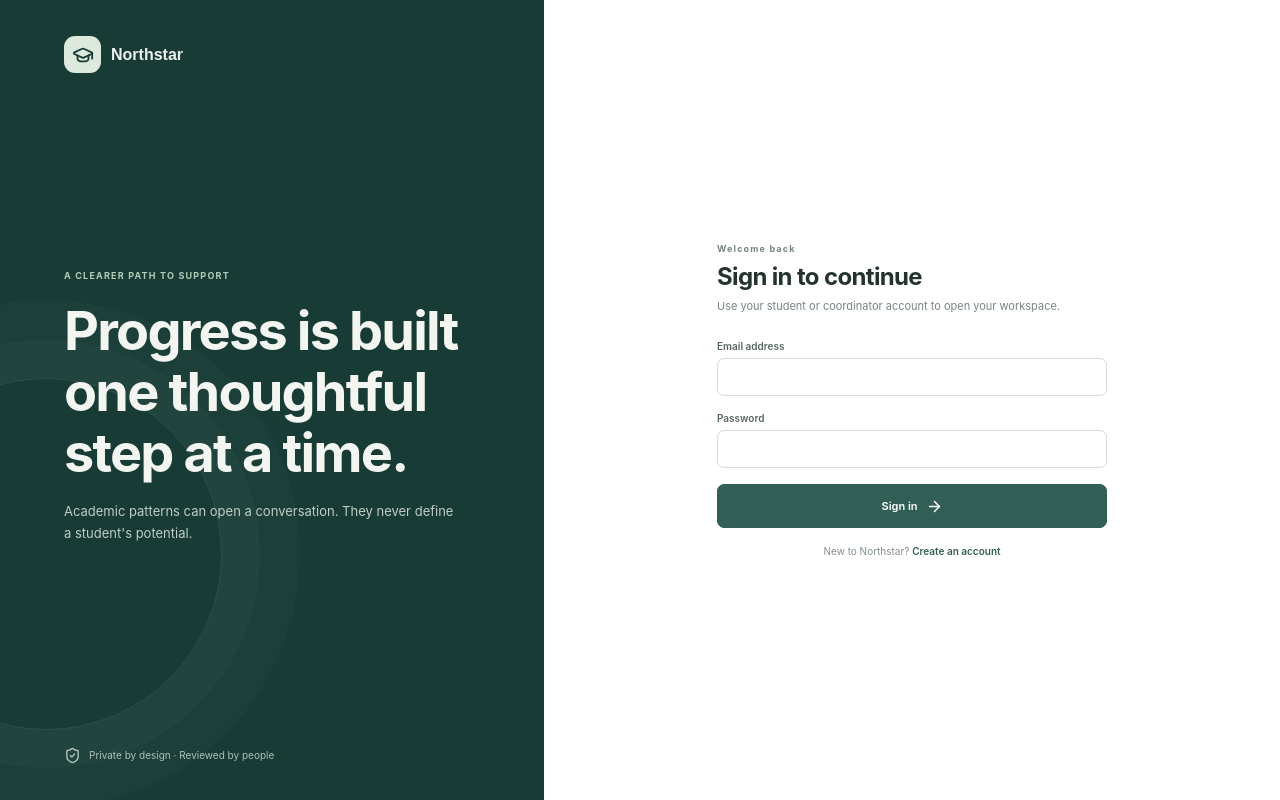
student and coordinator frontend flows › shows invalid login credentials instead of a session-expired message
Type "coordinator@example.edu" into the field labelled "Email address" at coordinates (912, 377), box [717, 358, 1107, 396]
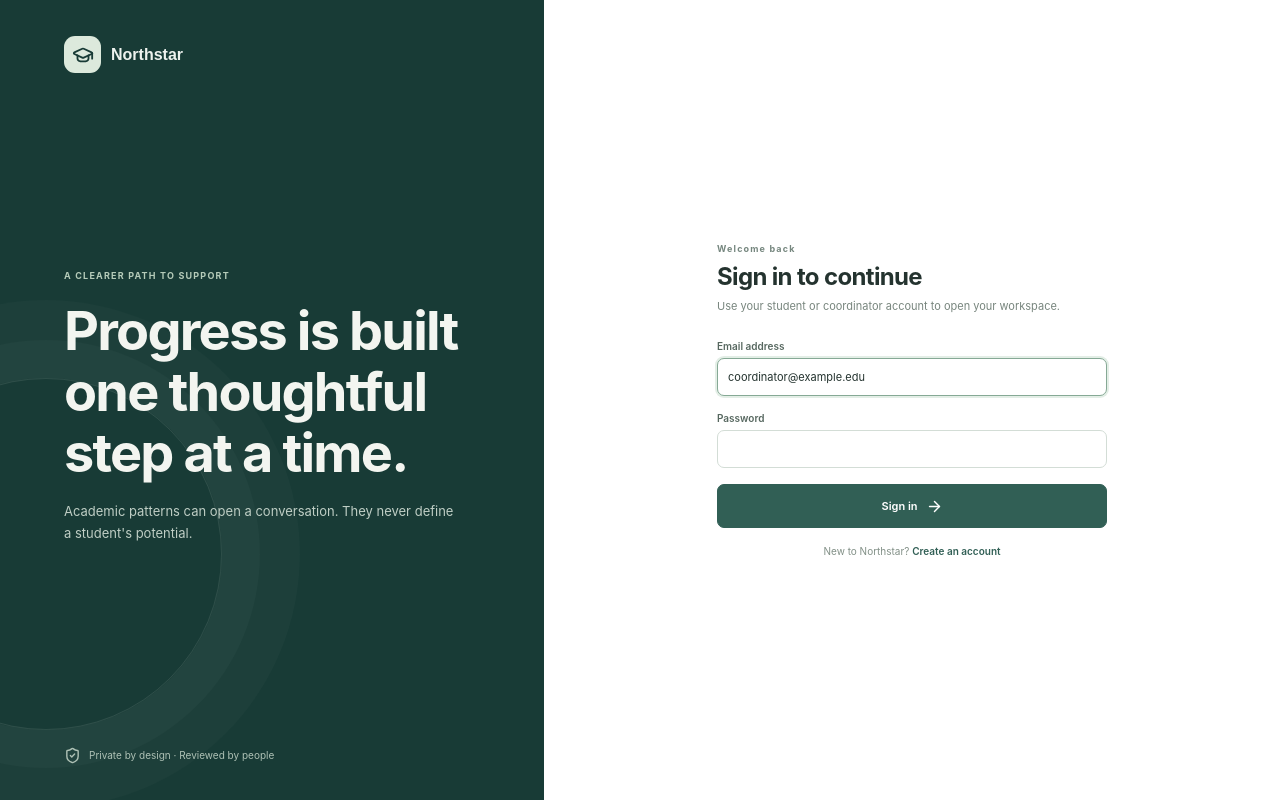
Type "wrong-password" into the password field labelled "Password" at coordinates (912, 449), box [717, 430, 1107, 468]
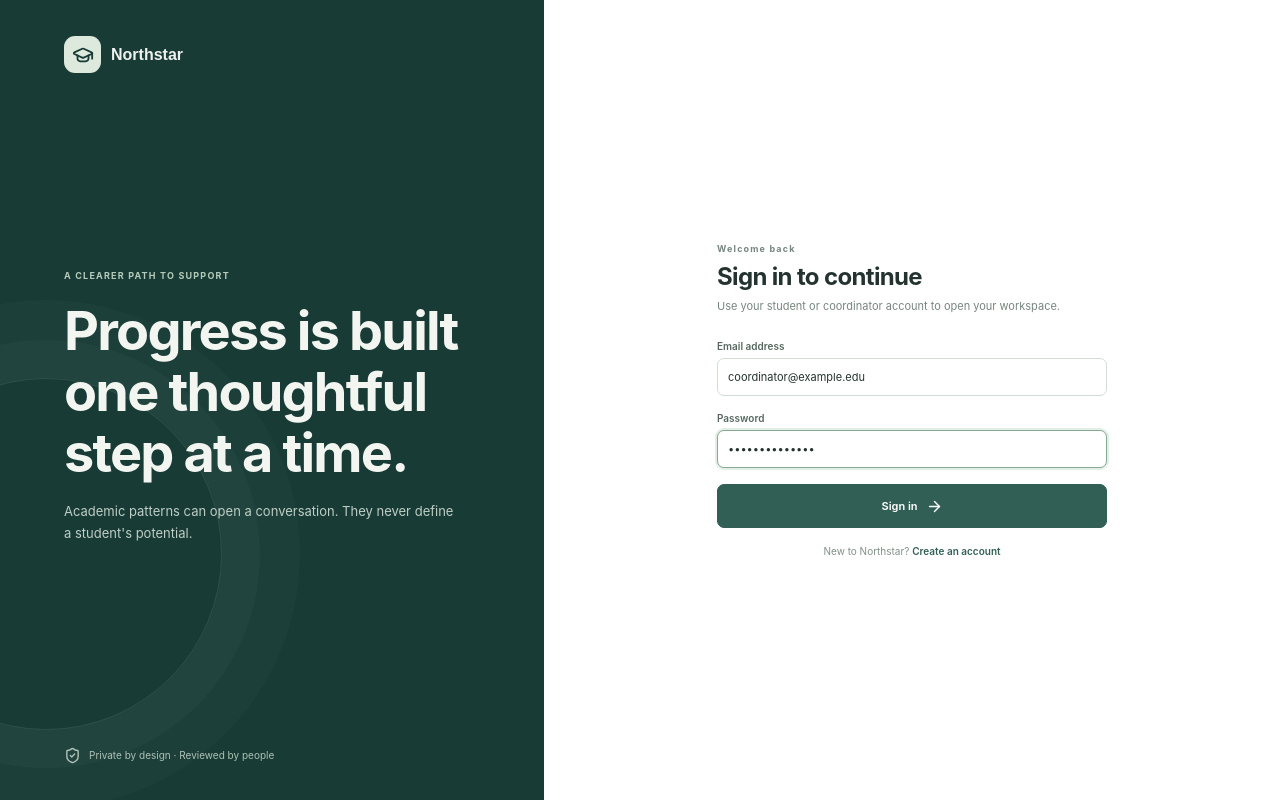
Click the button "Sign in" at coordinates (912, 506), box [717, 484, 1107, 528]
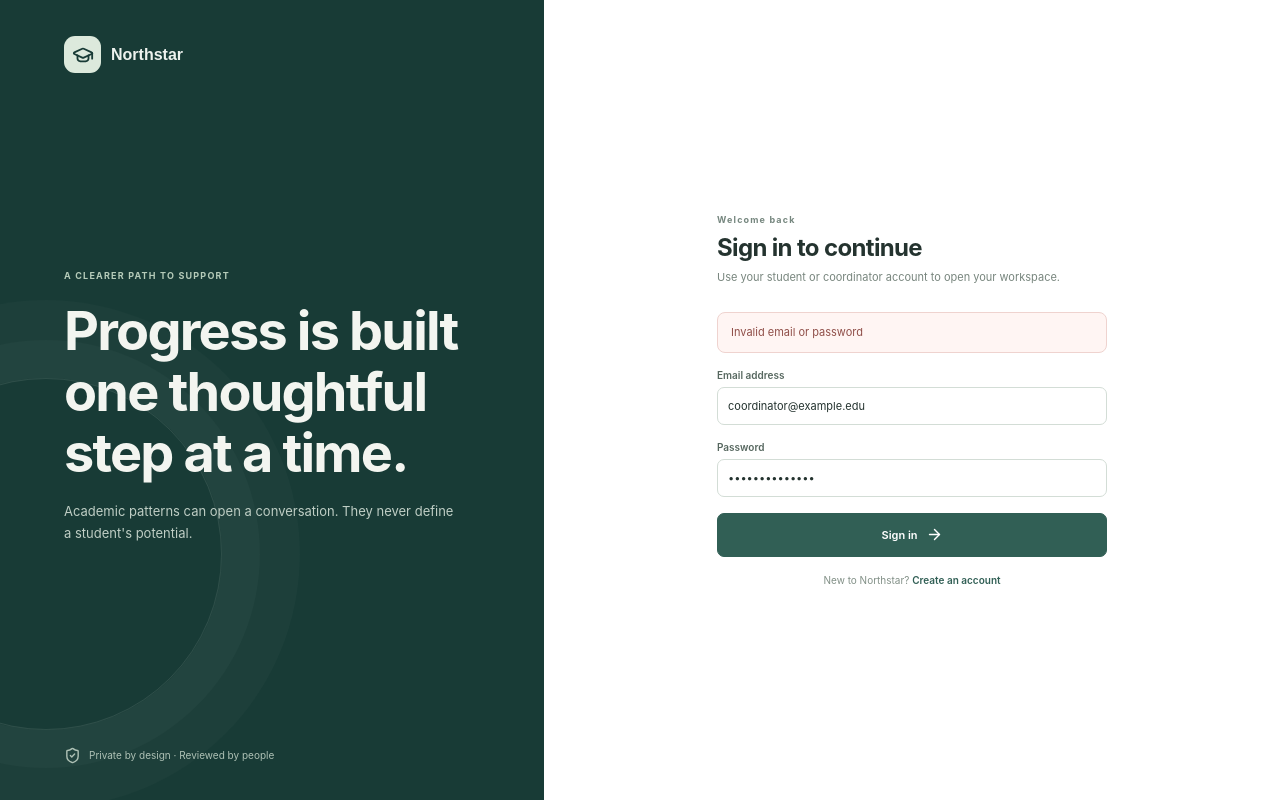
Result: the message reads "Invalid email or password" at [731, 325, 863, 339]
